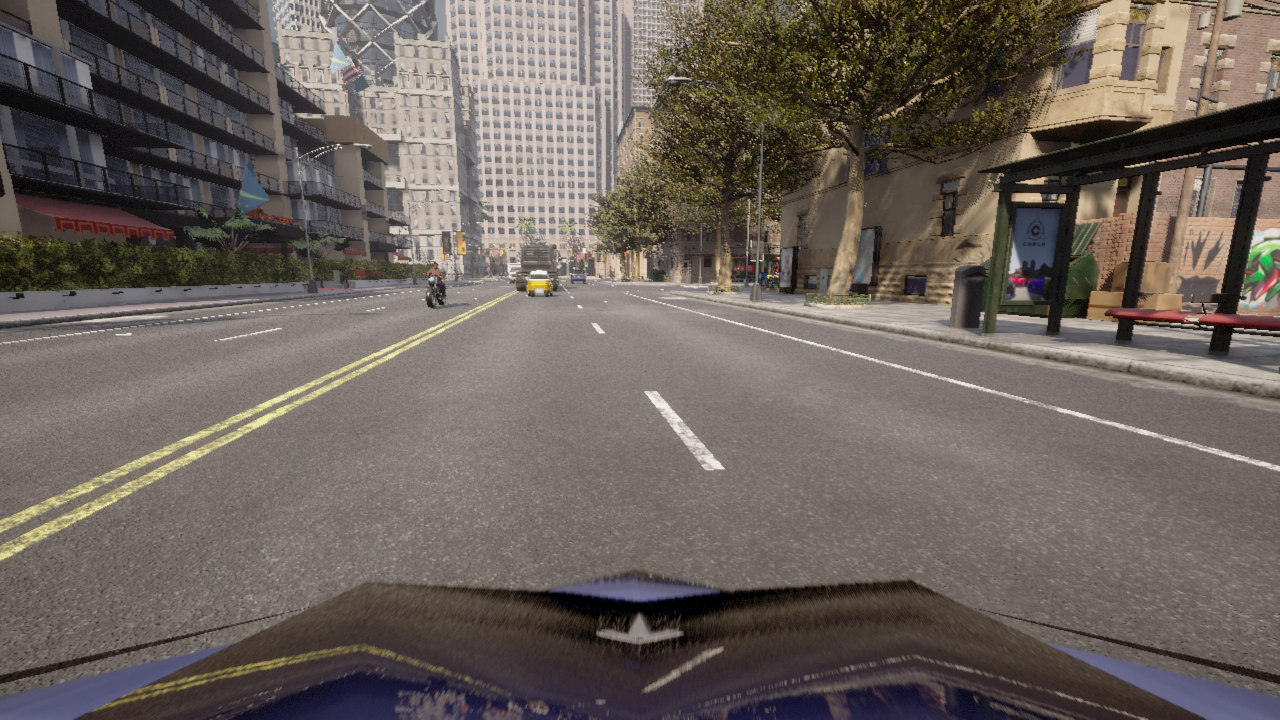cyclist: (0, 569, 1279, 719), (515, 244, 560, 291), (525, 271, 552, 297), (506, 263, 521, 283), (570, 270, 585, 283), (429, 278, 444, 289), (770, 279, 777, 286), (768, 275, 777, 277), (776, 273, 777, 274)
